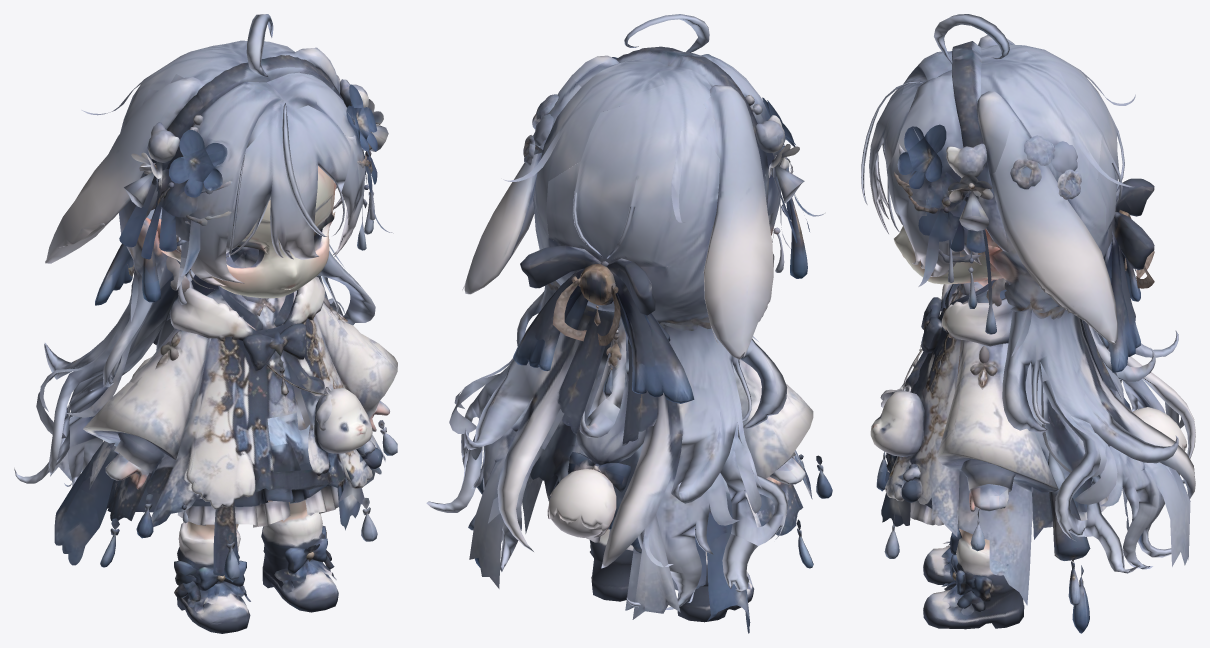
File: source.glb
The picture shows the model from 3 angles, left to right: view 1: azimuth 30°, elevation 25°; view 2: azimuth 150°, elevation 25°; view 3: azimuth 270°, elevation 25°; orthographic projection.
Visible parts, largest first — view 1: tripo_part_32, tripo_part_19, tripo_part_4, tripo_part_20, tripo_part_15, tripo_part_14, tripo_part_12, tripo_part_10, tripo_part_0, tripo_part_7, tripo_part_5, tripo_part_8 (+29 smaller); view 2: tripo_part_4, tripo_part_41, tripo_part_2, tripo_part_14, tripo_part_7, tripo_part_10, tripo_part_24, tripo_part_15, tripo_part_34, tripo_part_33, tripo_part_144, tripo_part_175 (+25 smaller); view 3: tripo_part_2, tripo_part_24, tripo_part_12, tripo_part_32, tripo_part_8, tripo_part_42, tripo_part_7, tripo_part_5, tripo_part_41, tripo_part_18, tripo_part_30, tripo_part_33 (+31 smaller).
Boxes of the visible parts, left/top/right/bottom form: tripo_part_32: left=146, top=316, right=385, bottom=576; tripo_part_19: left=225, top=105, right=351, bottom=259; tripo_part_4: left=36, top=126, right=198, bottom=480; tripo_part_20: left=162, top=81, right=284, bottom=286; tripo_part_15: left=83, top=328, right=211, bottom=459; tripo_part_14: left=45, top=74, right=214, bottom=263; tripo_part_12: left=113, top=75, right=397, bottom=592; tripo_part_10: left=64, top=320, right=338, bottom=573; tripo_part_0: left=150, top=166, right=335, bottom=304; tripo_part_7: left=100, top=14, right=371, bottom=567; tripo_part_5: left=261, top=500, right=338, bottom=612; tripo_part_8: left=267, top=72, right=365, bottom=256; tripo_part_4: left=601, top=104, right=787, bottom=619; tripo_part_41: left=546, top=67, right=719, bottom=270; tripo_part_2: left=426, top=55, right=678, bottom=551; tripo_part_14: left=703, top=77, right=774, bottom=359; tripo_part_7: left=533, top=14, right=832, bottom=568; tripo_part_10: left=637, top=448, right=740, bottom=609; tripo_part_24: left=462, top=76, right=581, bottom=294; tripo_part_15: left=468, top=135, right=813, bottom=530; tripo_part_34: left=608, top=268, right=694, bottom=403; tripo_part_33: left=530, top=415, right=761, bottom=554; tripo_part_144: left=558, top=309, right=614, bottom=434; tripo_part_175: left=469, top=457, right=505, bottom=588; tripo_part_2: left=903, top=51, right=1195, bottom=573; tripo_part_24: left=989, top=119, right=1117, bottom=344; tripo_part_12: left=921, top=158, right=1089, bottom=633; tripo_part_32: left=885, top=307, right=960, bottom=536; tripo_part_8: left=887, top=70, right=981, bottom=276; tripo_part_42: left=925, top=470, right=1087, bottom=605; tripo_part_7: left=881, top=14, right=1186, bottom=580; tripo_part_5: left=923, top=528, right=1024, bottom=629; tripo_part_41: left=981, top=44, right=1135, bottom=232; tripo_part_18: left=951, top=446, right=1171, bottom=574; tripo_part_30: left=952, top=41, right=1008, bottom=251; tripo_part_33: left=1025, top=364, right=1092, bottom=539.
Bounding box in the file's own units: 0.5887 × 1 × 0.5222.
1 material, 1 textured.
